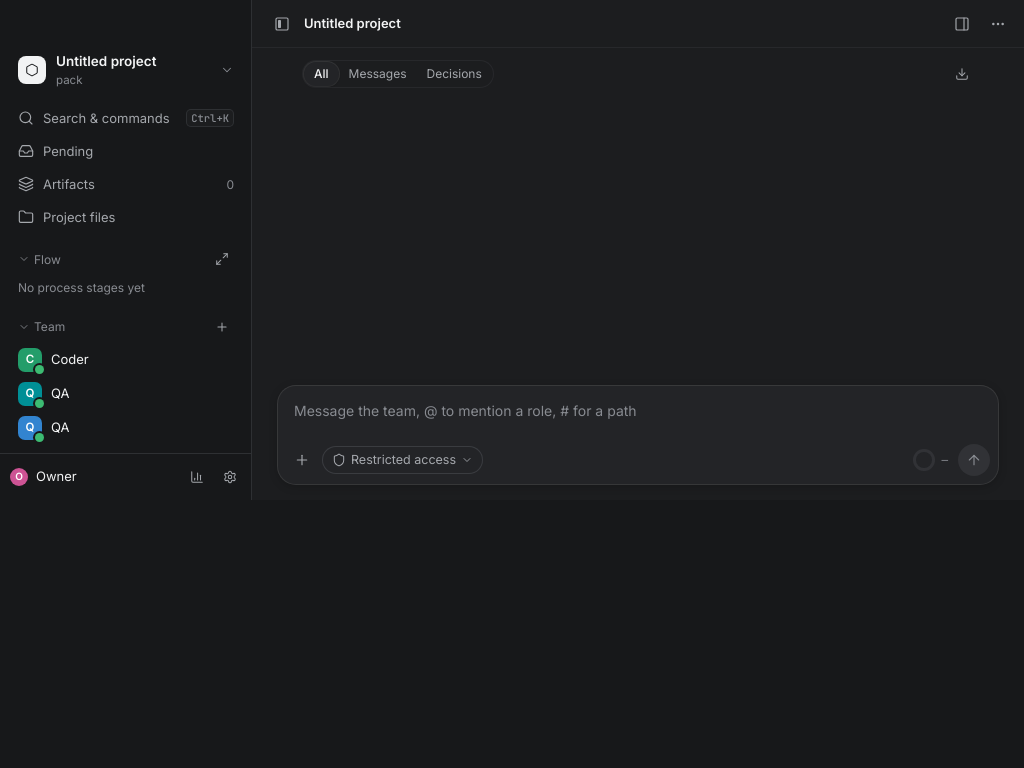
成员行右键菜单（A16b 第一批） › @ 点名：把 @角色 插进输入条并聚焦；同名角色写成 角色[id]
Press the mouse on the button "C Coder": [126, 360] box [10, 343, 242, 377]
Right-click the button "C Coder": [126, 360] box [10, 343, 242, 377]
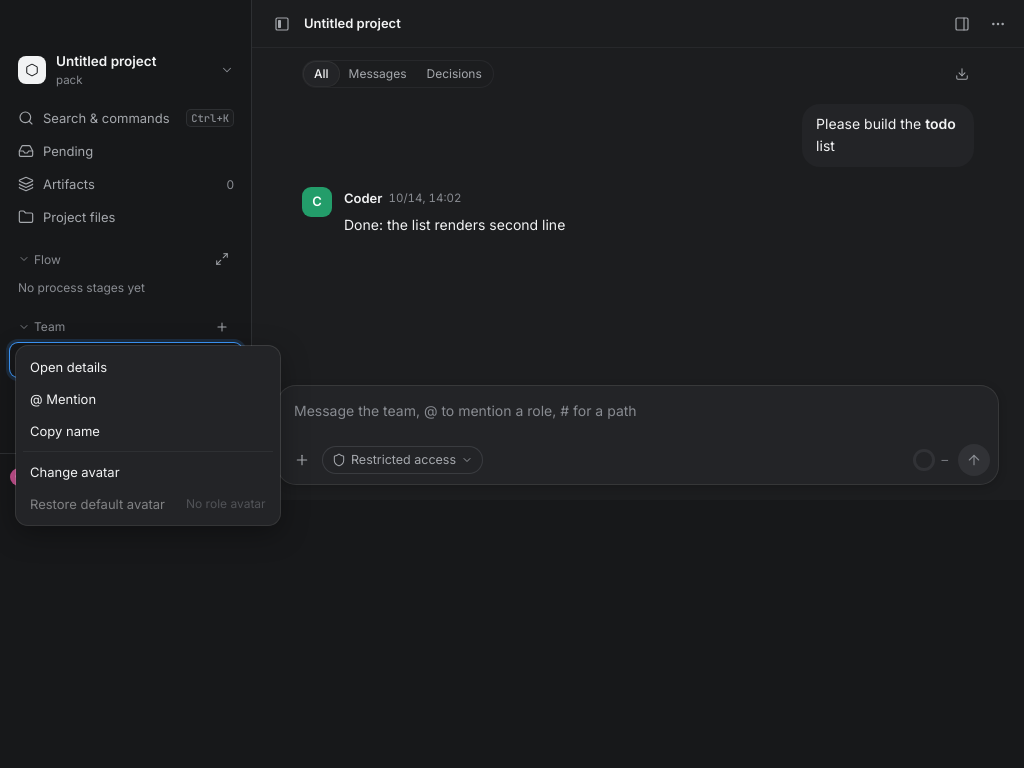
Click the menu item "@ Mention": [63, 399] box [30, 391, 96, 407]
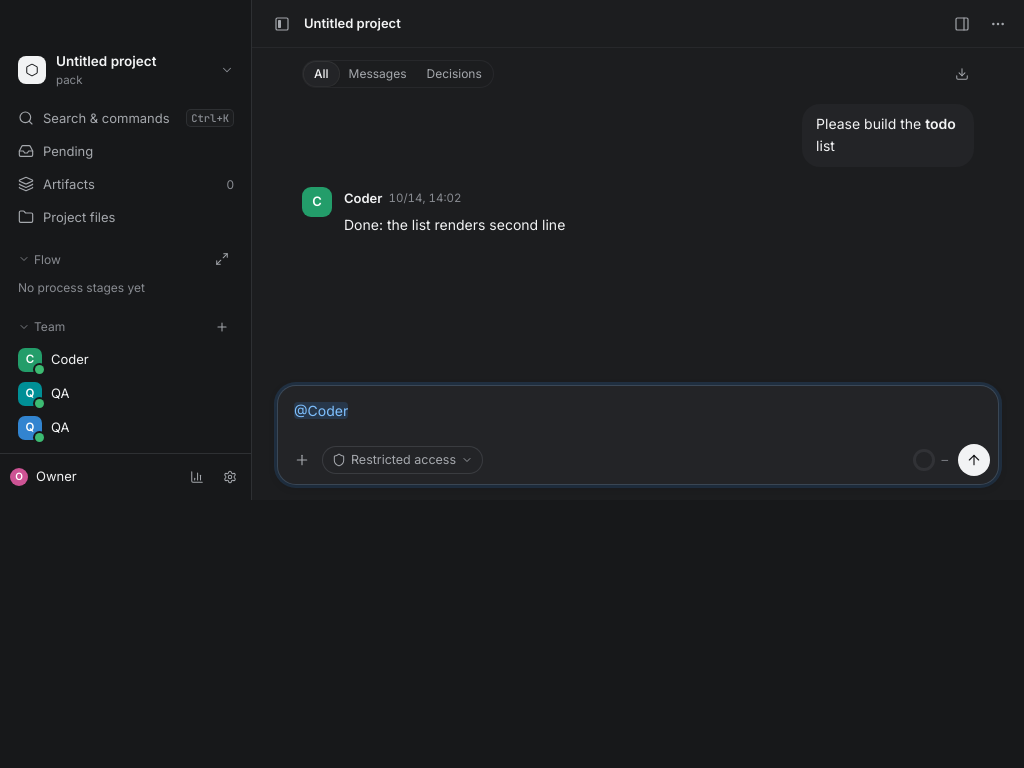
Now the text box with id "composer-input" holds "@Coder ", box [278, 386, 998, 438]
Press the mouse on the 2nd button "Q QA": [126, 428] box [10, 411, 242, 445]
Right-click the 2nd button "Q QA": [126, 428] box [10, 411, 242, 445]
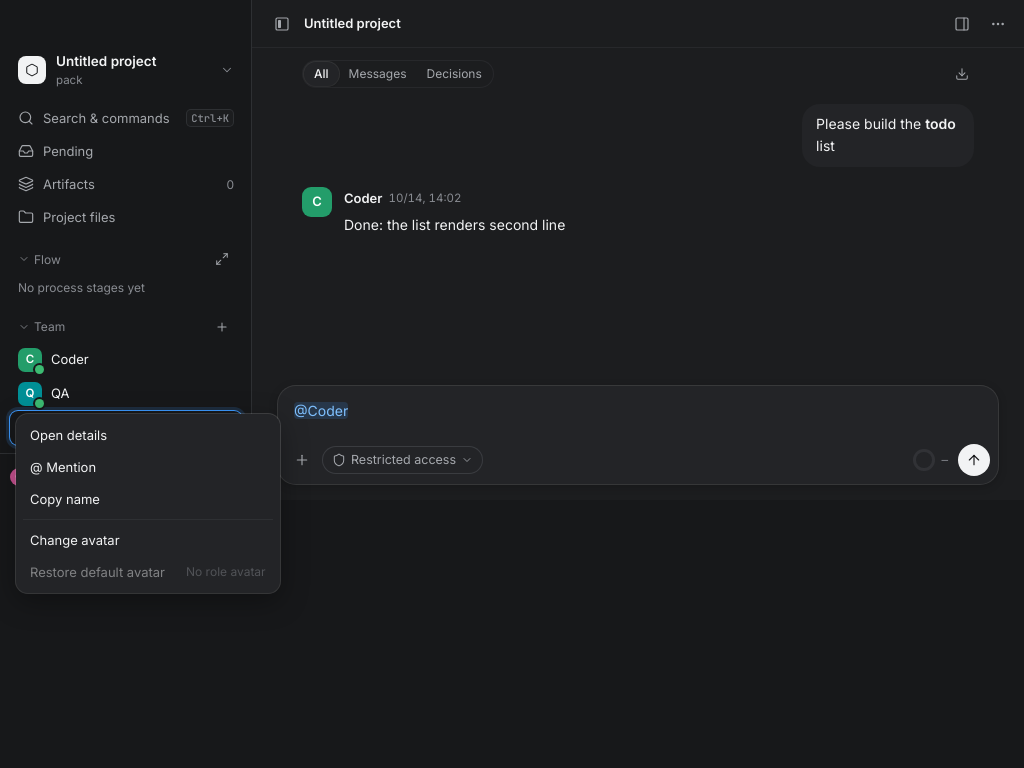
Click the menu item "@ Mention": [63, 467] box [30, 459, 96, 475]
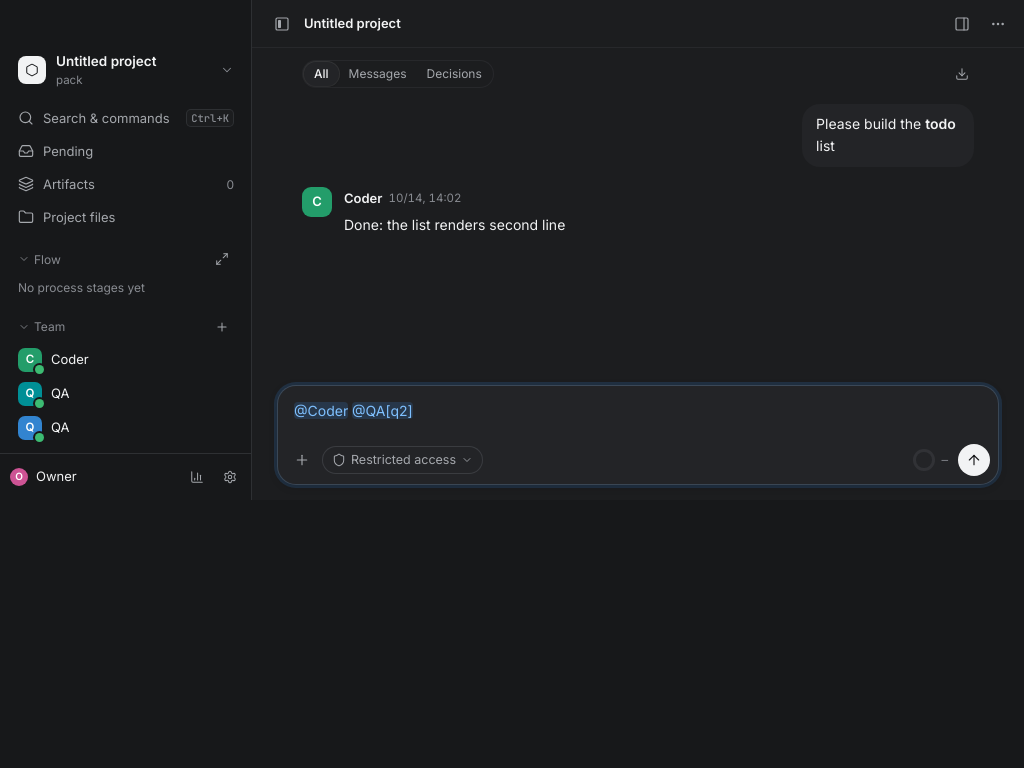
Now the text box with id "composer-input" holds "@Coder @QA[q2] ", box [278, 386, 998, 438]
